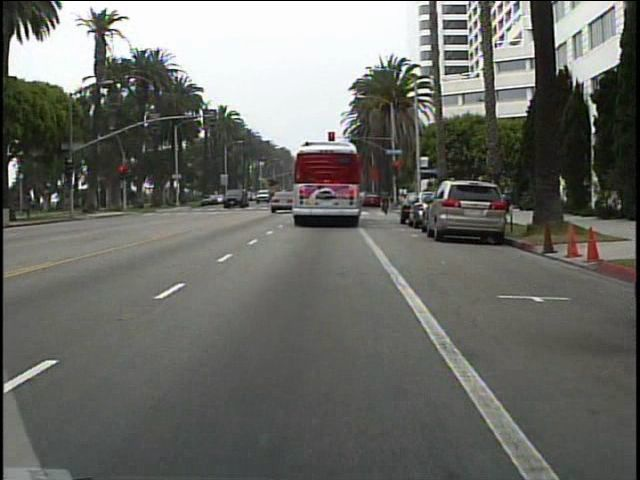person: (504, 182, 519, 217), (375, 188, 393, 215)
